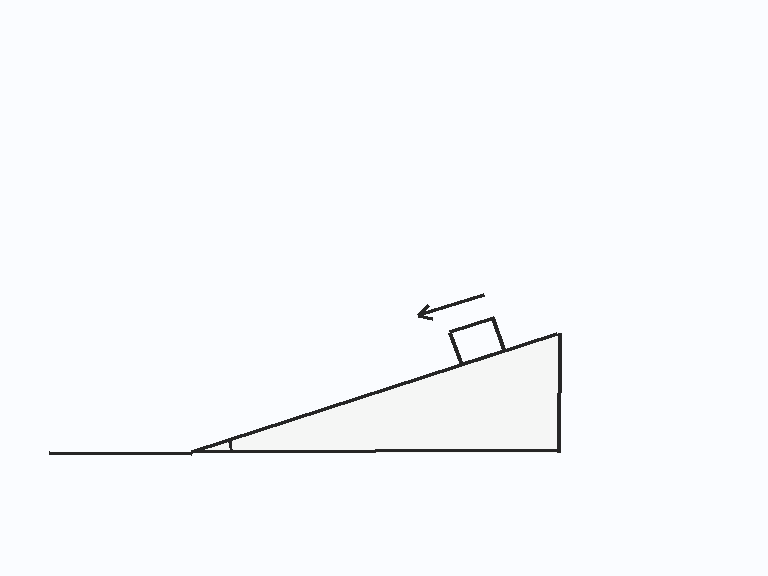block: (448, 316, 506, 367)
ramp: (189, 331, 560, 454)
